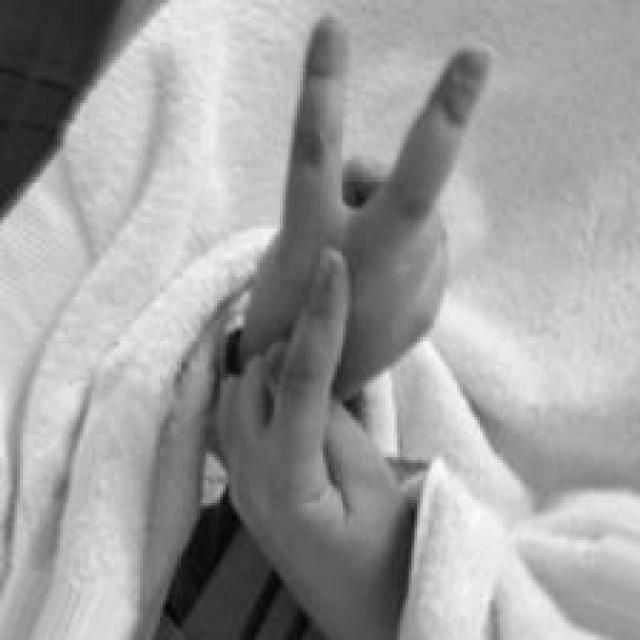Y: (214, 17, 500, 640)
